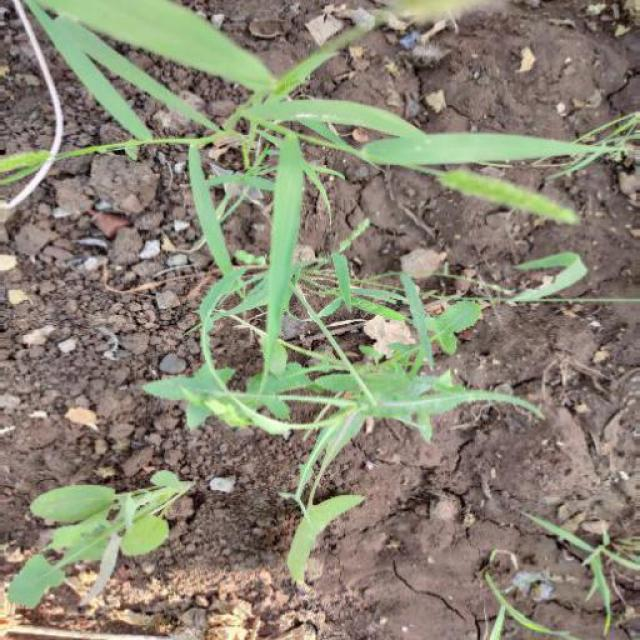weed: (1, 121, 502, 640)
